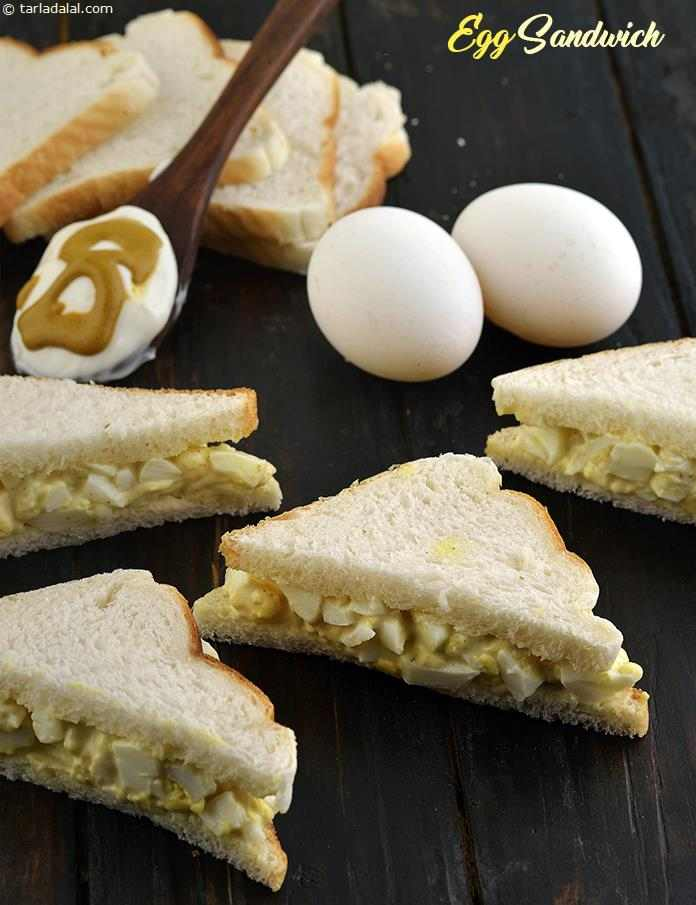Egg: (298, 199, 490, 388)
